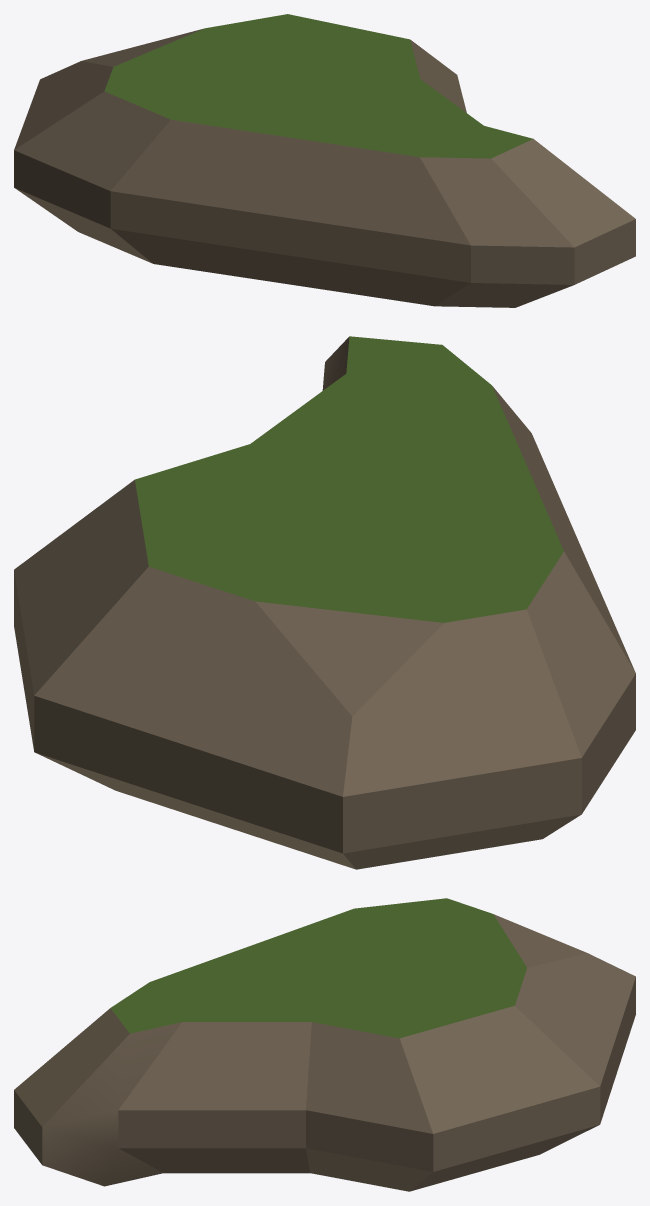
The model's file is rock_large_a.glb.
3 views of the same model, one above another, from view 1: azimuth 30°, elevation 25°; view 2: azimuth 150°, elevation 25°; view 3: azimuth 270°, elevation 25° (orthographic). The views are drawn at different scales.
Parts seen in each view (by area): view 1: rock_largeA; view 2: rock_largeA; view 3: rock_largeA.
Boxes of the visible parts, <box> form: rock_largeA: <box>14,14,635,307</box>; rock_largeA: <box>14,336,635,869</box>; rock_largeA: <box>14,898,635,1191</box>.
Bounding box in the file's own units: 0.7849 × 0.2598 × 1.02.
